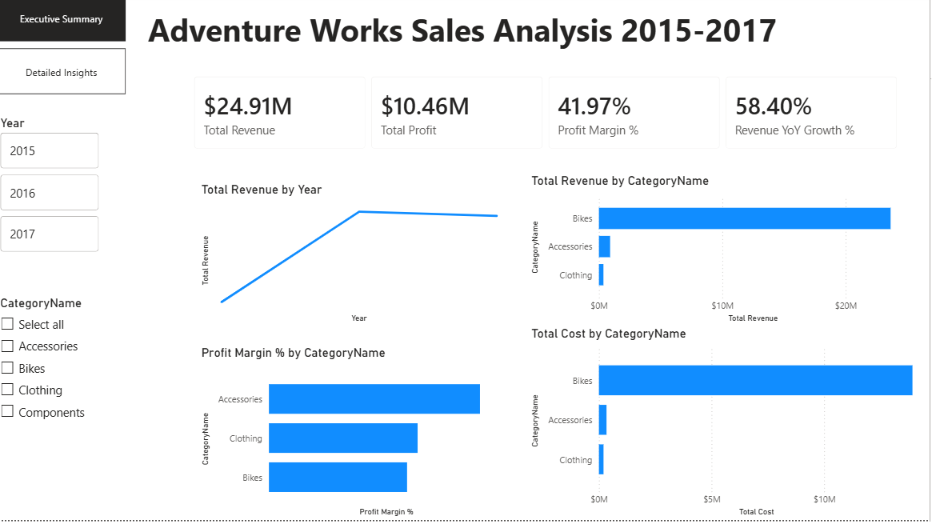

The dashboard page shown, as its layout file describes it:
{"tool":"powerbi","page":{"name":"Executive Summary","canvas":[1280,720],"ordinal":0},"visuals":[{"type":"cardVisual","fields":{"Data":["_Measures.Total Revenue","_Measures.Total Profit","_Measures.Profit Margin %","_Measures.Revenue YoY Growth %"]},"box":[253.9,94.7,1000.3,133.1],"z":0},{"type":"lineChart","fields":{"Category":["Dim_Date.Year"],"Y":["_Measures.Total Revenue"]},"box":[275.8,256.6,425.4,197.6],"z":1000},{"type":"clusteredBarChart","fields":{"Category":["Products.CategoryName"],"Y":["_Measures.Total Revenue"]},"box":[728.6,244.3,542,209.9],"z":2000},{"type":"clusteredBarChart","fields":{"Y":["_Measures.Profit Margin %"],"Category":["Products.CategoryName"]},"box":[275.8,480.3,425.4,240.1],"z":3000},{"type":"clusteredBarChart","fields":{"Y":["_Measures.Total Cost"],"Category":["Products.CategoryName"]},"box":[728.6,454.2,551.6,266.2],"z":4000},{"type":"textbox","box":[133.1,12.3,1011.3,82.3],"z":5000},{"type":"advancedSlicerVisual","fields":{"Values":["Dim_Date.Year"]},"box":[0,164.7,145.5,194.9],"z":6000},{"type":"listSlicer","fields":{"Values":["Products.CategoryName"]},"box":[0,411.7,275.8,189.4],"z":7000},{"type":"pageNavigator","box":[0,0,177,137.2],"z":7001}]}

Visuals, with their boxes in screenshot pixels (x1, y1, x2, y2), scaled from the page's 1280x720 canvas onto the 932x522 screenshot:
cardVisual - _Measures.Total Revenue x _Measures.Total Profit: 185, 69, 913, 165
lineChart - Dim_Date.Year x _Measures.Total Revenue: 201, 186, 511, 329
clusteredBarChart - Products.CategoryName x _Measures.Total Revenue: 531, 177, 925, 329
clusteredBarChart - _Measures.Profit Margin % x Products.CategoryName: 201, 348, 511, 521
clusteredBarChart - _Measures.Total Cost x Products.CategoryName: 531, 329, 931, 521
textbox: 97, 9, 833, 69
advancedSlicerVisual - Dim_Date.Year: 0, 119, 106, 261
listSlicer - Products.CategoryName: 0, 298, 201, 436
pageNavigator: 0, 0, 129, 99
